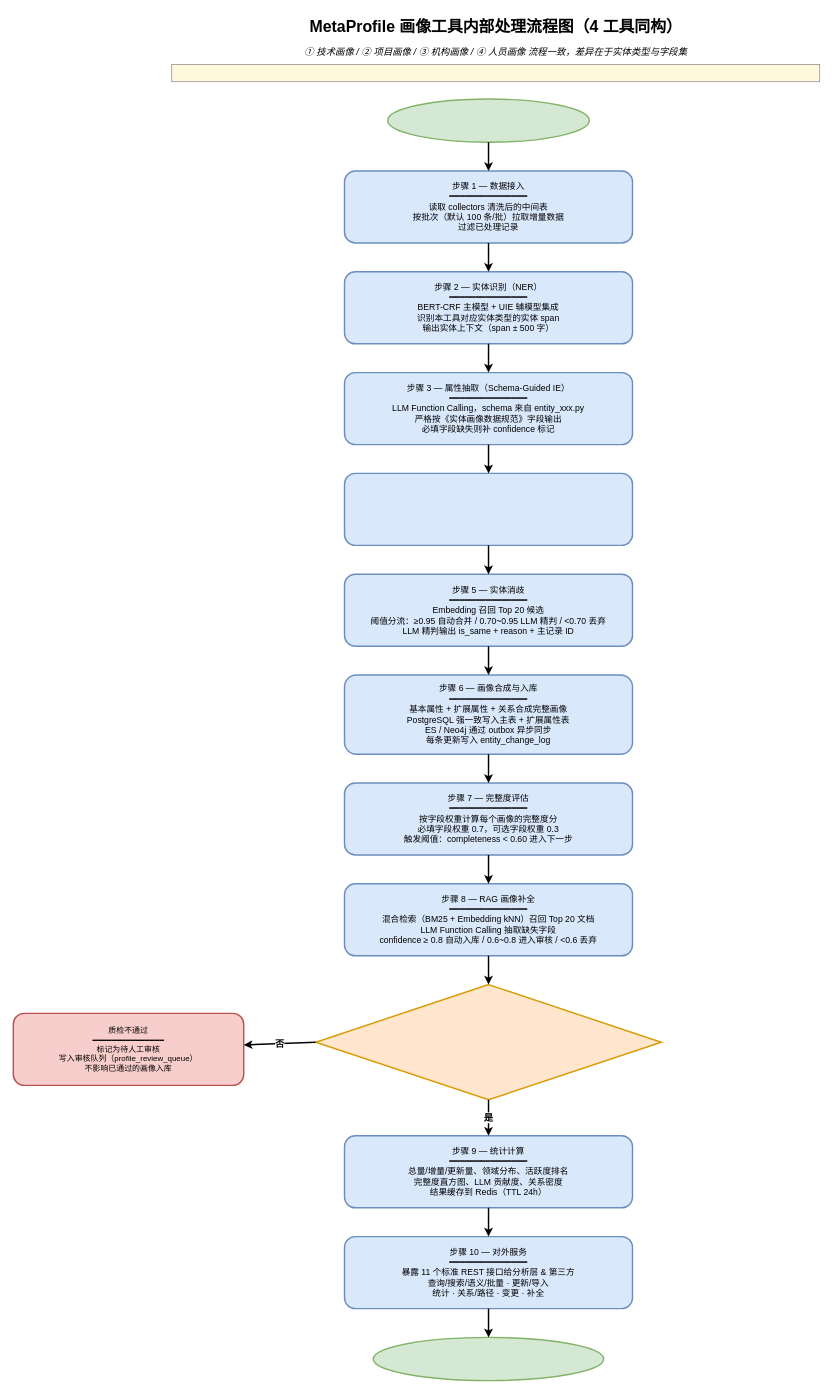
The diagram is 832 pixels wide and 1393 high, and some of its shapes have lost their labels. The centre of each missing label's shape, as x and y in pixels:
ISO 流程图规范：● 椭圆 = 起止节点 ● 矩形 = 处理过程 ● 菱形 = 决策（仅 QA 步使用）: the point at 495,73
QA 质量检查 字段必填率 ≥ 95%？ LLM 抽取置信度均值 ≥ 0.8？: the point at 488,1042
开始：定时触发 / API 调用: the point at 488,120
步骤 4 — 关系抽取 ━━━━━━━━━━━━━━━ 规则抽取（结构化字段）+ LLM 关系分类 按数据规范关系定义生成三元组 关系置信度 ≥ 0.6 入图谱: the point at 488,509
结束：等待下个调度周期 / 处理下批数据: the point at 488,1358
